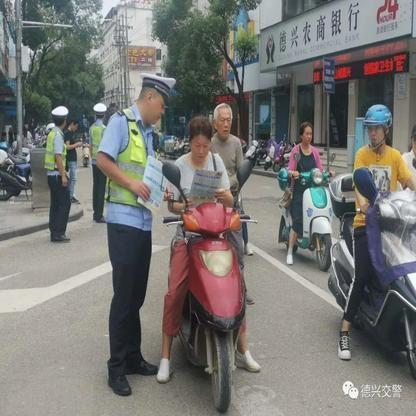target: (162, 117, 264, 411), (333, 102, 414, 377), (277, 120, 331, 274)
